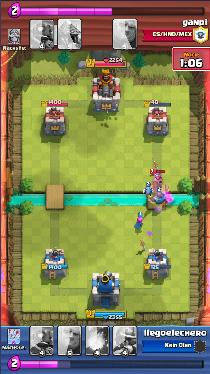ally_archer: (134, 217, 144, 230)
ally_knight: (149, 193, 168, 205)
ally_minion: (144, 187, 153, 195)
enemy_musketeer: (153, 173, 163, 184)
